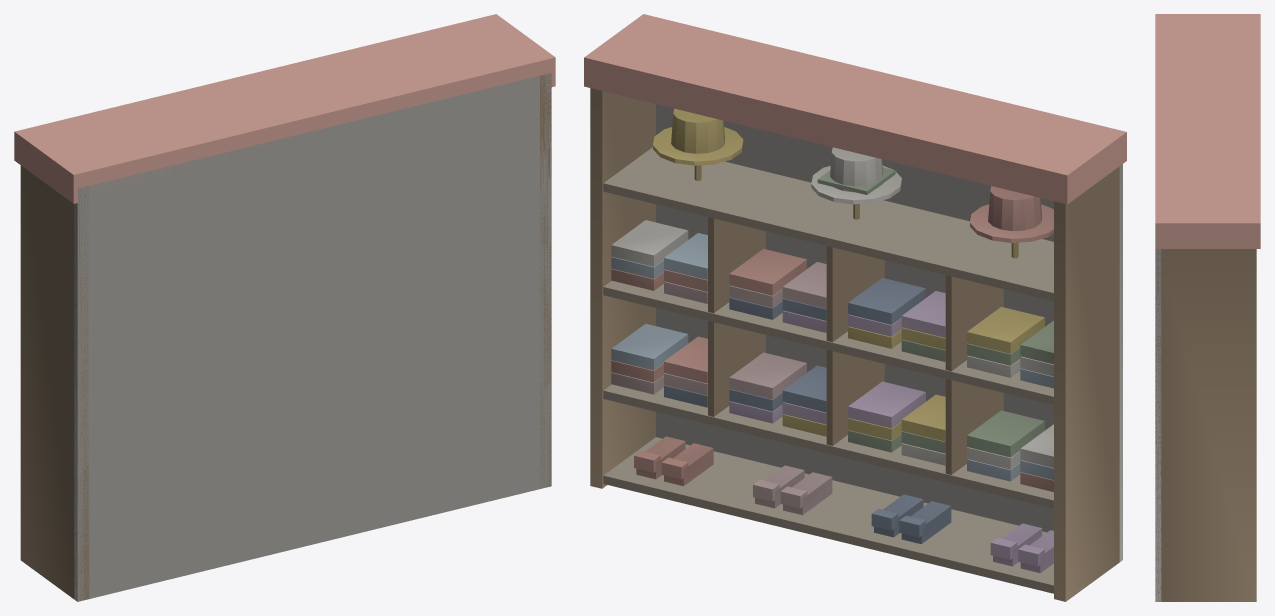
Rendered from wear_display_shelf.glb.
3 renders of one model, left to right at view 1: azimuth 30°, elevation 25°; view 2: azimuth 150°, elevation 25°; view 3: azimuth 270°, elevation 25°, orthographic. The views are drawn at different scales.
Parts seen in each view (by area): view 1: wear.display_shelf; view 2: wear.display_shelf; view 3: wear.display_shelf.
Boxes of the visible parts, x1,y1,x2,y2 form: wear.display_shelf: [14, 14, 555, 601]; wear.display_shelf: [584, 14, 1126, 601]; wear.display_shelf: [1155, 14, 1260, 601].
Size of the model in its own units: 2.44 by 2.07 by 0.52.
